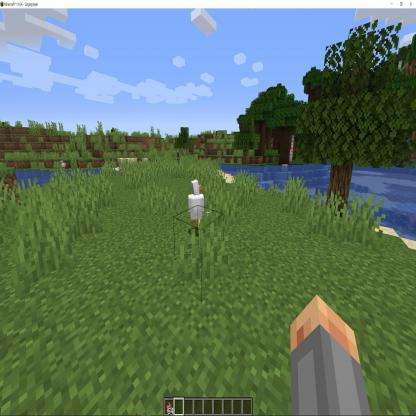minecraft-pigs: (185, 178, 205, 235), (60, 160, 66, 172)
